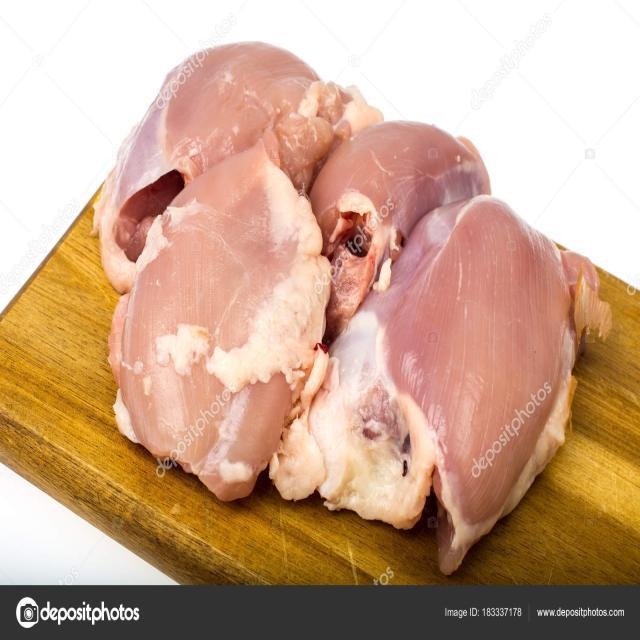thigh: (330, 215, 550, 544), (124, 160, 307, 508), (101, 42, 353, 260)
